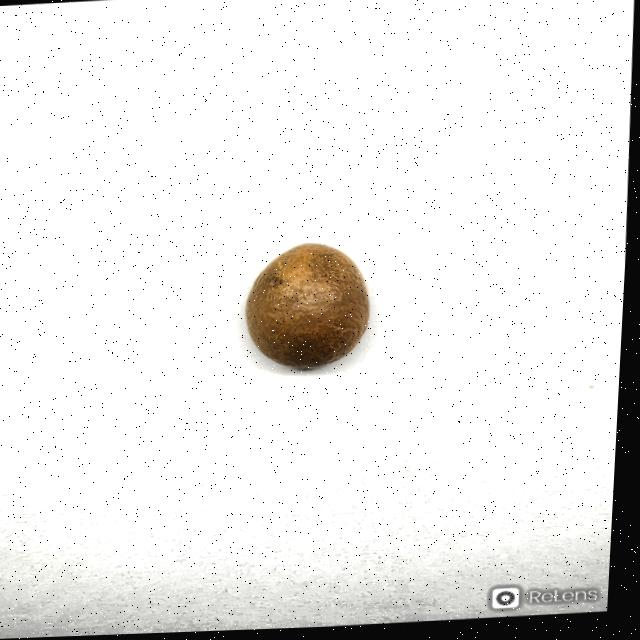Good bean: (245, 241, 375, 375)
